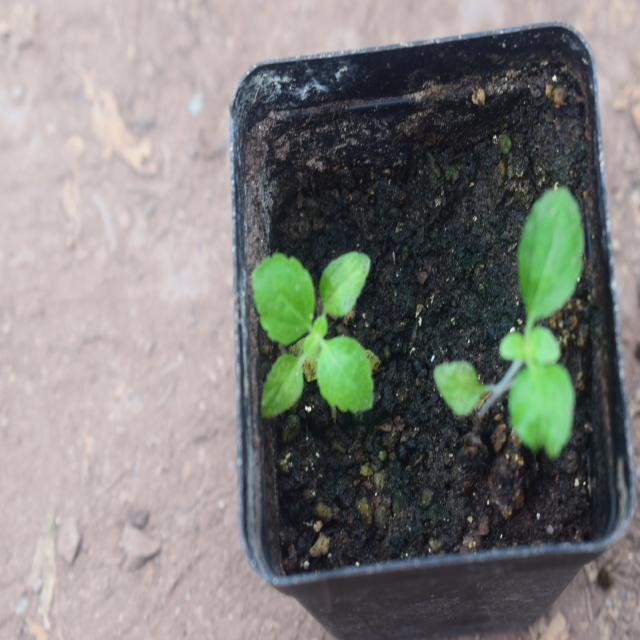billygoat_weed: (456, 198, 614, 470), (244, 248, 378, 436)
